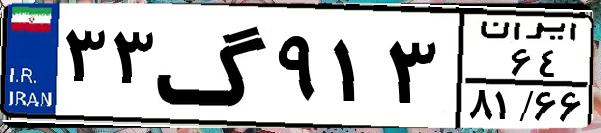1: (330, 28, 385, 110), (495, 70, 520, 125)
3: (385, 28, 445, 110), (57, 26, 110, 100), (110, 28, 156, 98)
4: (537, 27, 568, 80)
6: (560, 70, 590, 125), (508, 27, 537, 80), (535, 70, 560, 125)
8: (470, 70, 495, 125)
9: (270, 28, 330, 110)
گ: (156, 12, 270, 120)
